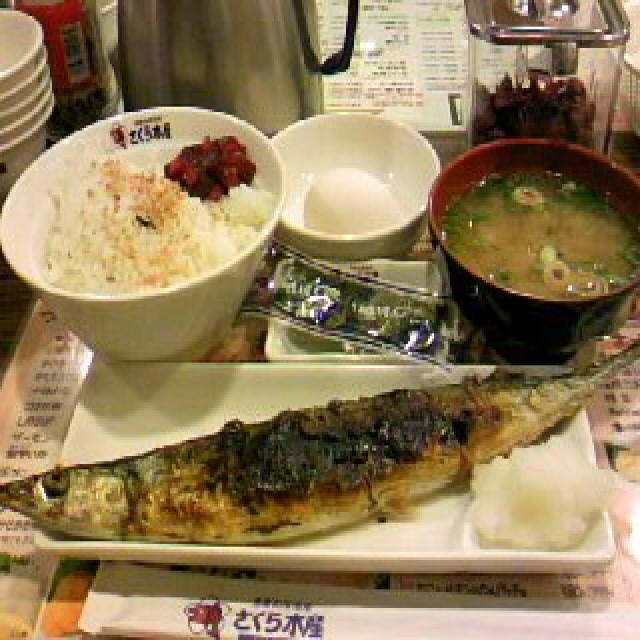熟制海鲜: (0, 352, 640, 539)
